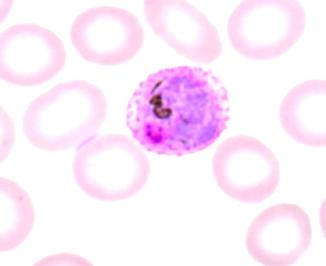Infected: (126, 67, 230, 155)
Uninfected: (24, 80, 107, 151), (74, 134, 150, 199), (144, 0, 220, 63), (227, 0, 304, 60), (211, 135, 279, 202), (71, 6, 145, 66), (0, 24, 66, 87), (247, 202, 310, 265), (282, 79, 326, 146)
